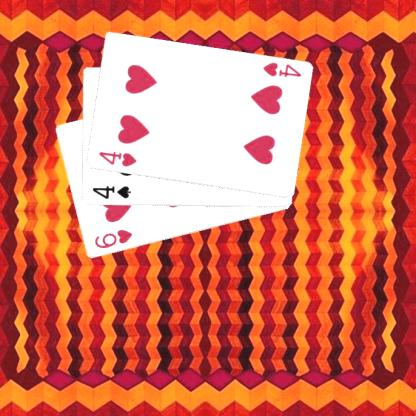4H: (96, 148, 138, 168), (260, 60, 302, 80)
4S: (89, 183, 132, 201)
6H: (92, 227, 134, 250)
